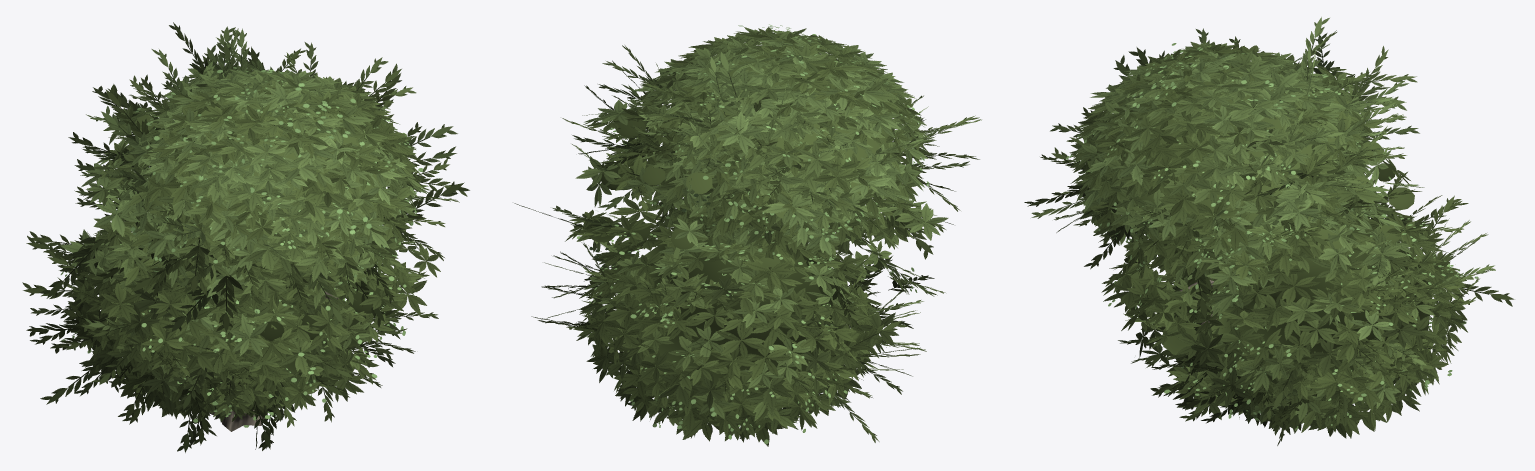
File: ZonTree201.glb
3 views of the same model, side by side, from view 1: azimuth 30°, elevation 25°; view 2: azimuth 150°, elevation 25°; view 3: azimuth 270°, elevation 25° (orthographic). The views are drawn at different scales.
Visible parts, largest first — view 1: ZonTree201_leaves; view 2: ZonTree201_leaves; view 3: ZonTree201_leaves.
Boxes of the visible parts, box(x1,y1,x2,y2) form: ZonTree201_leaves: box(22, 22, 469, 452); ZonTree201_leaves: box(514, 24, 981, 446); ZonTree201_leaves: box(1024, 17, 1514, 445).
Size of the model in its own units: 10.09 by 9.42 by 10.95.
Materials: 3 (2 with a texture image).
